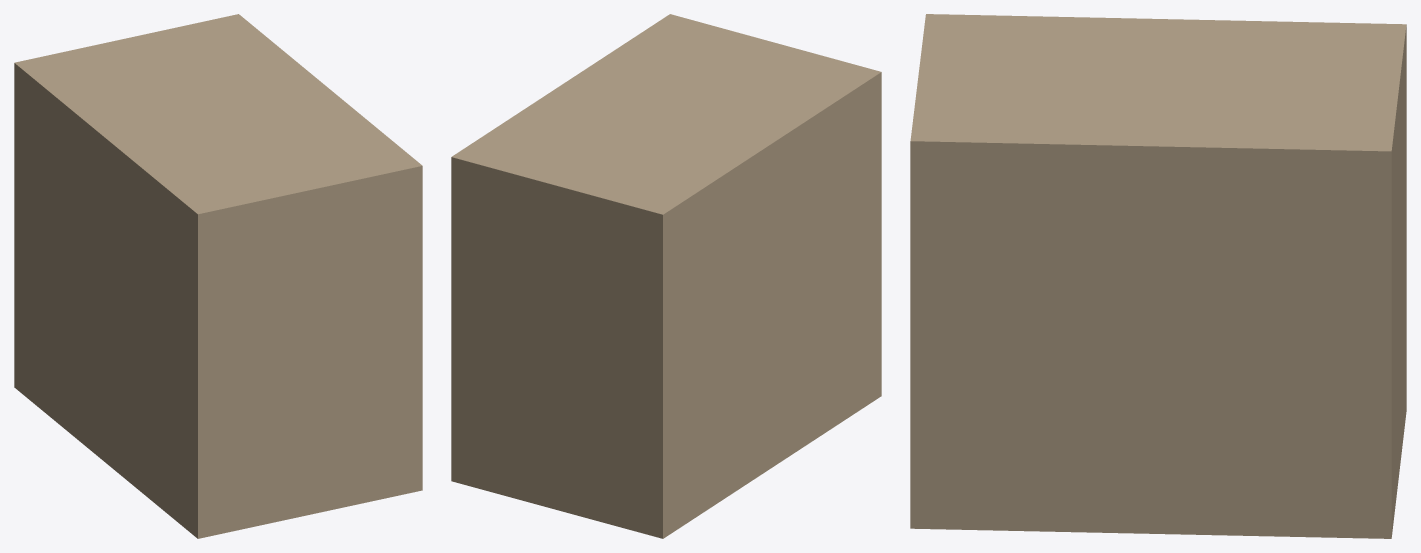
Rendered from bld_106466794.dae.
3 renders of one model, left to right at view 1: azimuth 30°, elevation 25°; view 2: azimuth 150°, elevation 25°; view 3: azimuth 270°, elevation 25°, orthographic. The views are drawn at different scales.
Parts seen in each view (by area): view 1: bld_106466794; view 2: bld_106466794; view 3: bld_106466794.
Part boxes in pixels (<box>): bld_106466794: <box>14,14,422,538</box>; bld_106466794: <box>451,14,881,538</box>; bld_106466794: <box>910,14,1406,538</box>.
Bounding box in the file's own units: 6.08 × 9.28 × 8.
